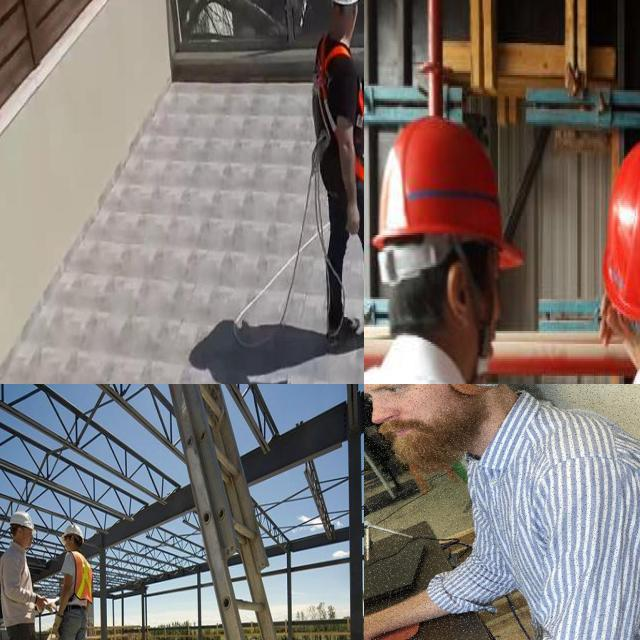Ear-protection: (364, 384, 550, 498)
Harness: (313, 36, 349, 158)
No_Ear-Protection: (445, 256, 474, 333), (6, 504, 37, 558)
head_helmet: (373, 116, 523, 268), (603, 142, 640, 328)
